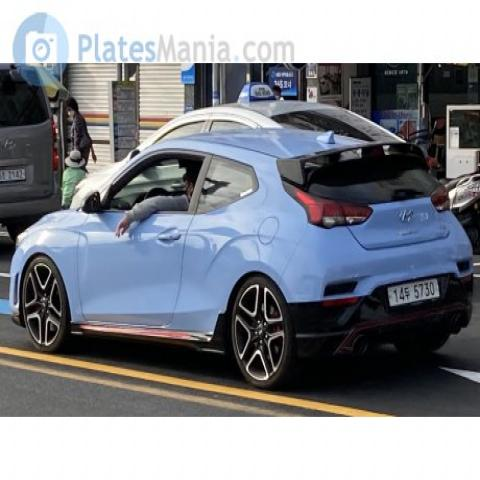LP: (385, 263, 442, 318)
